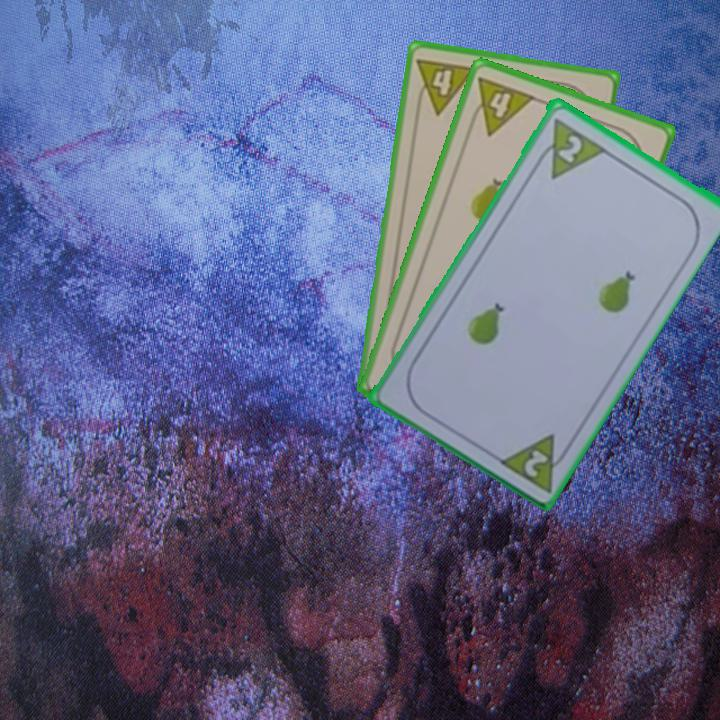2p: (493, 428, 575, 495), (554, 130, 585, 165)
4p: (464, 72, 538, 139), (411, 54, 479, 118)
